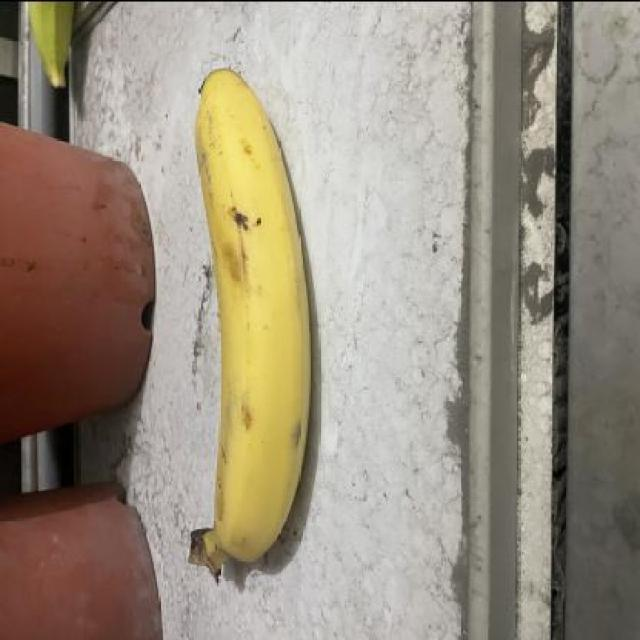Banana: (179, 62, 318, 588)
